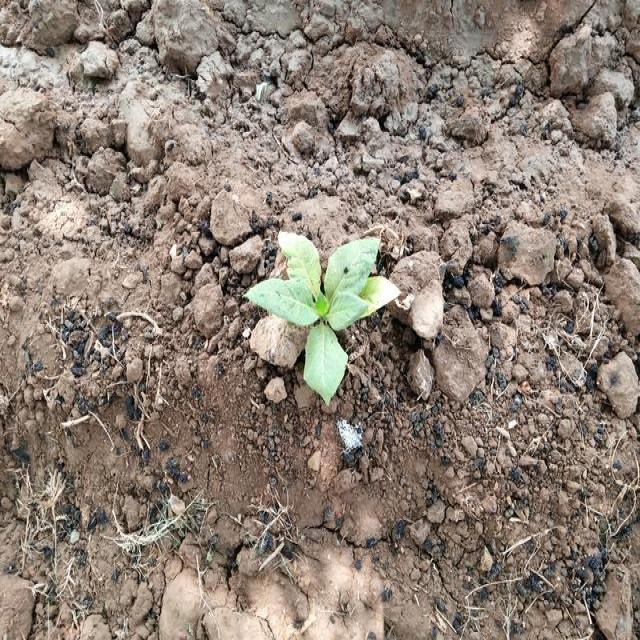crop: (253, 219, 396, 393)
